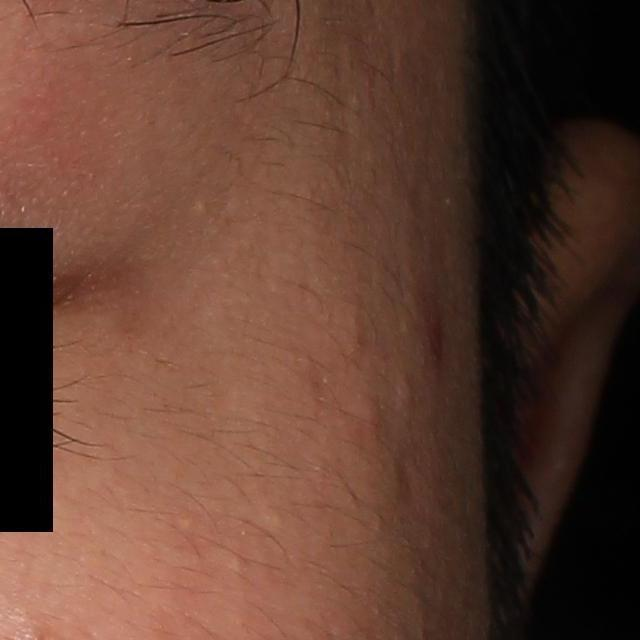papule: (339, 386, 389, 437)
